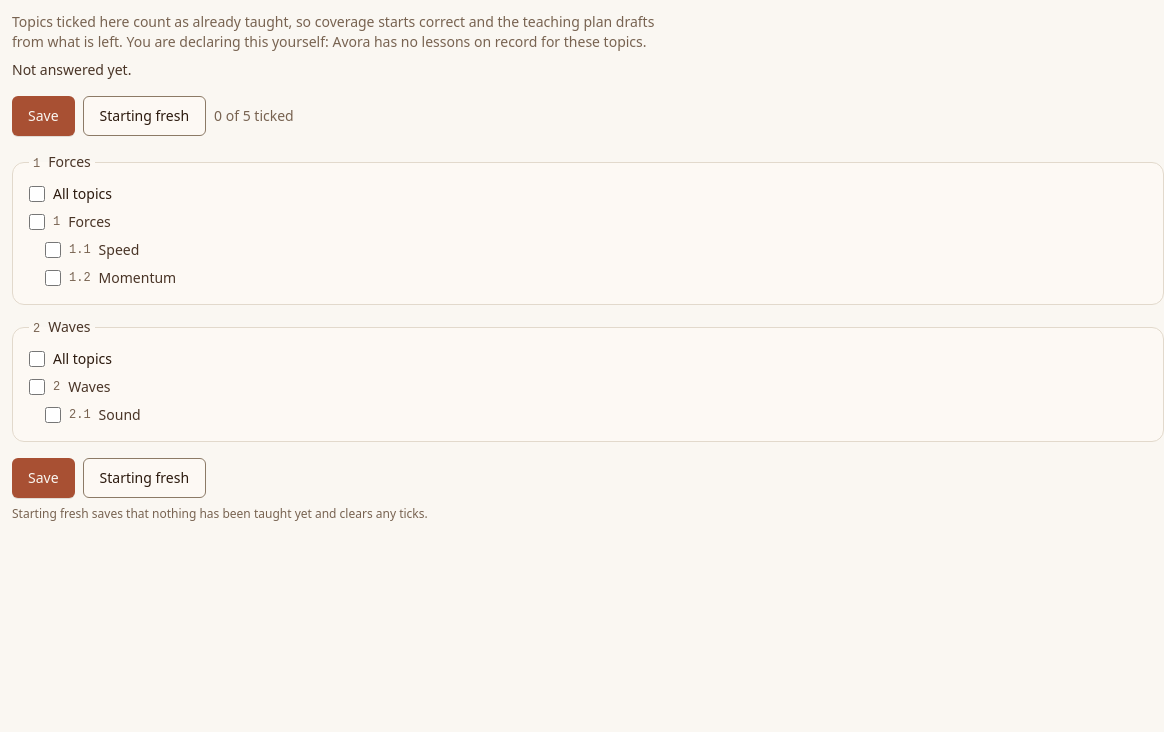
Scenario: a failed save keeps the ticks and shows the error
Check: the text "Not answered yet." is shown, box top-left (12, 60), bottom-right (131, 79)
Click the checkbox labelled "1.2 Momentum".
click(53, 278)  # box top-left (45, 270), bottom-right (61, 286)
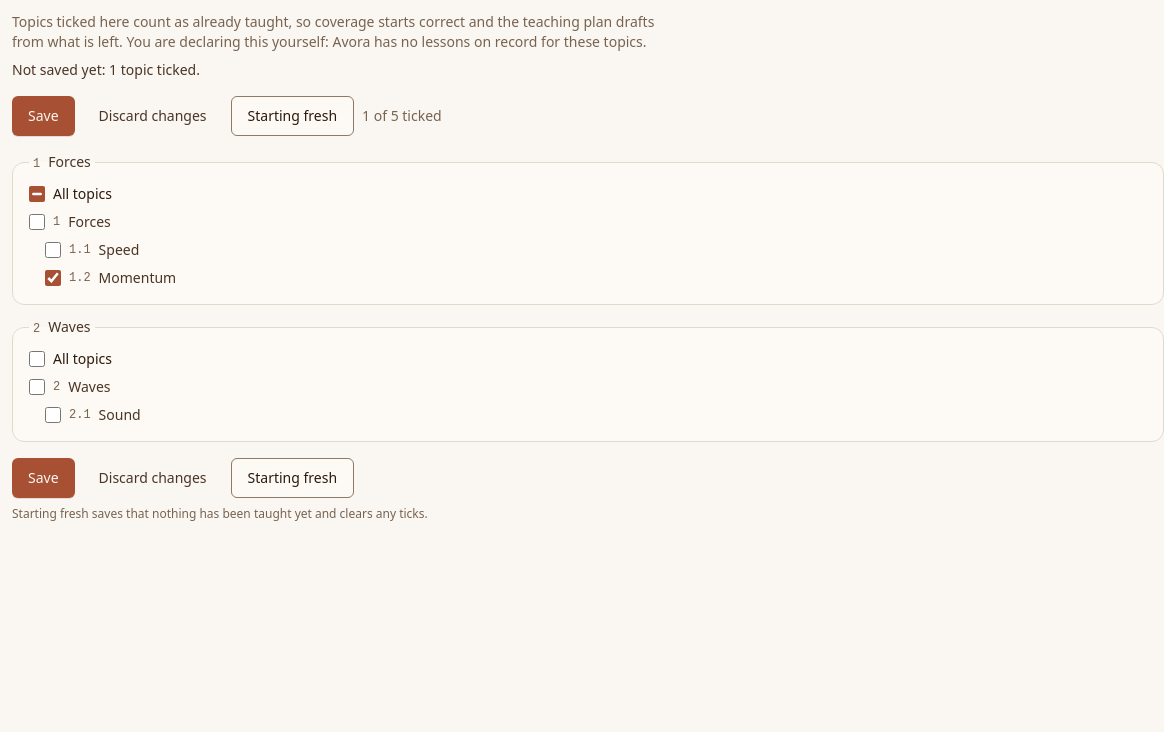
Click the 2nd button "Save".
click(43, 478)  # box top-left (12, 458), bottom-right (75, 498)
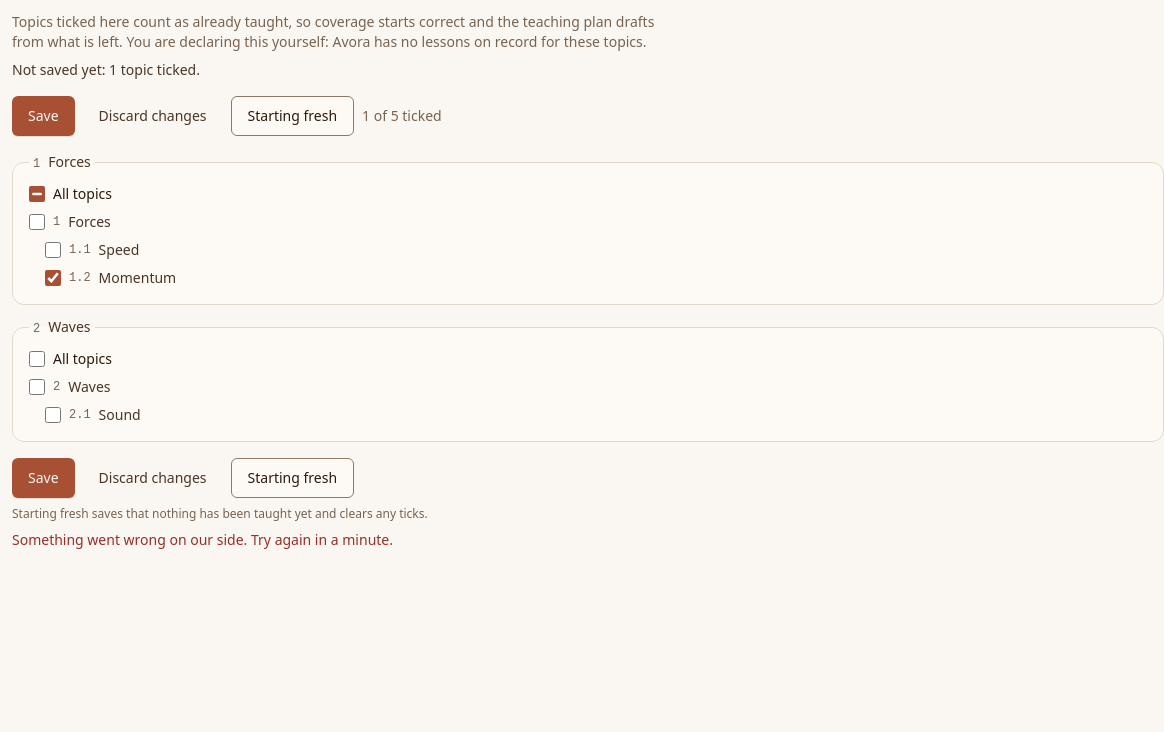
Check: the checkbox labelled "1.2 Momentum" is checked, box top-left (45, 270), bottom-right (61, 286)
Check: the text "Not saved yet: 1 topic ticked." is shown, box top-left (12, 60), bottom-right (200, 79)
Check: the text "Something went wrong on our side. Try again in a minute." is shown, box top-left (12, 530), bottom-right (393, 549)
